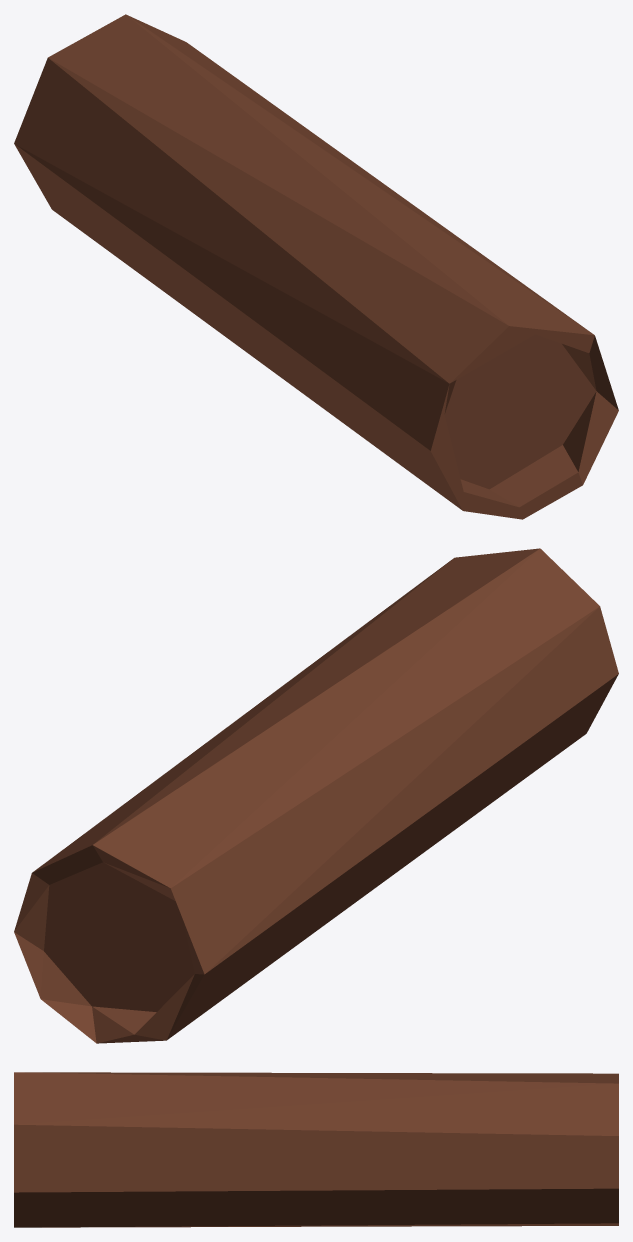
Rendered from log.fbx.
3 views of the same model, one above another, from view 1: azimuth 30°, elevation 25°; view 2: azimuth 150°, elevation 25°; view 3: azimuth 270°, elevation 25° (orthographic). The views are drawn at different scales.
Visible parts, largest first — view 1: Cylinder; view 2: Cylinder; view 3: Cylinder.
Part boxes in pixels (x1=…): Cylinder: x1=14, y1=14, x2=618, y2=519; Cylinder: x1=14, y1=548, x2=618, y2=1043; Cylinder: x1=14, y1=1072, x2=618, y2=1227.
Size of the model in its own units: 140 by 139 by 529.
